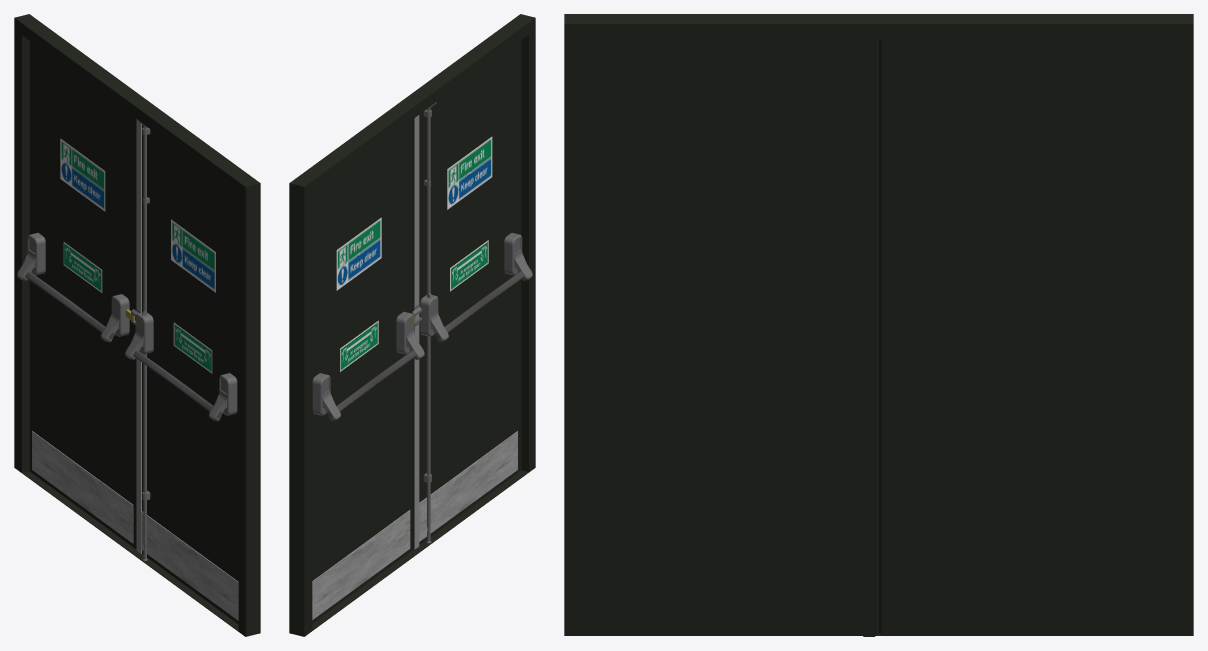
File: exit_doors.glb
3 renders of one model, left to right at view 1: azimuth 30°, elevation 25°; view 2: azimuth 150°, elevation 25°; view 3: azimuth 270°, elevation 25°, orthographic. The views are drawn at different scales.
Visible parts, largest first — view 1: ExitDoors; view 2: ExitDoors; view 3: ExitDoors.
Part boxes in pixels (left/top/right/bottom): ExitDoors: left=14, top=14, right=260, bottom=636; ExitDoors: left=289, top=14, right=535, bottom=636; ExitDoors: left=564, top=14, right=1193, bottom=636.
Bounding box in the file's own units: 0.1604 × 2.3 × 2.13.
Materials: 8 (3 with a texture image).
